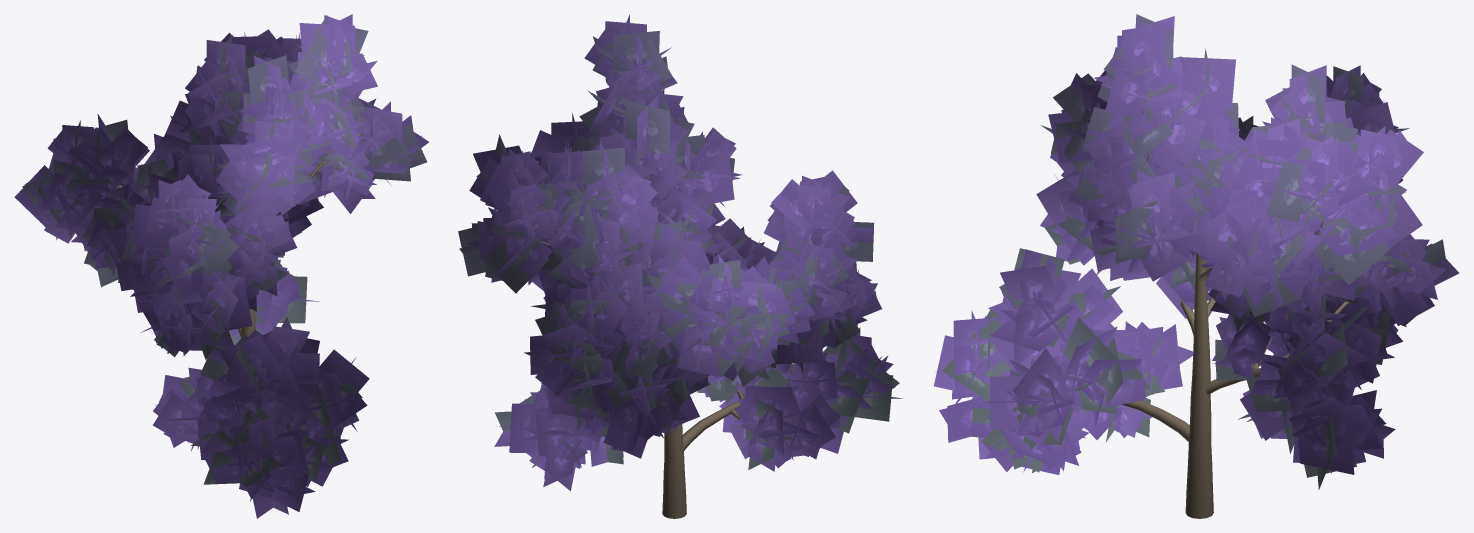
Rendered from jacaranda-alto.glb.
3 views of the same model, side by side, from view 1: azimuth 30°, elevation 25°; view 2: azimuth 150°, elevation 25°; view 3: azimuth 270°, elevation 25° (orthographic). The views are drawn at different scales.
Parts seen in each view (by area): view 1: jacaranda; view 2: jacaranda; view 3: jacaranda.
Boxes of the visible parts, <box> form: jacaranda: <box>14,14,428,518</box>; jacaranda: <box>458,14,902,518</box>; jacaranda: <box>934,14,1459,518</box>.
Bounding box in the file's own units: 8.42 × 11 × 9.96.
2 materials, 1 textured.
